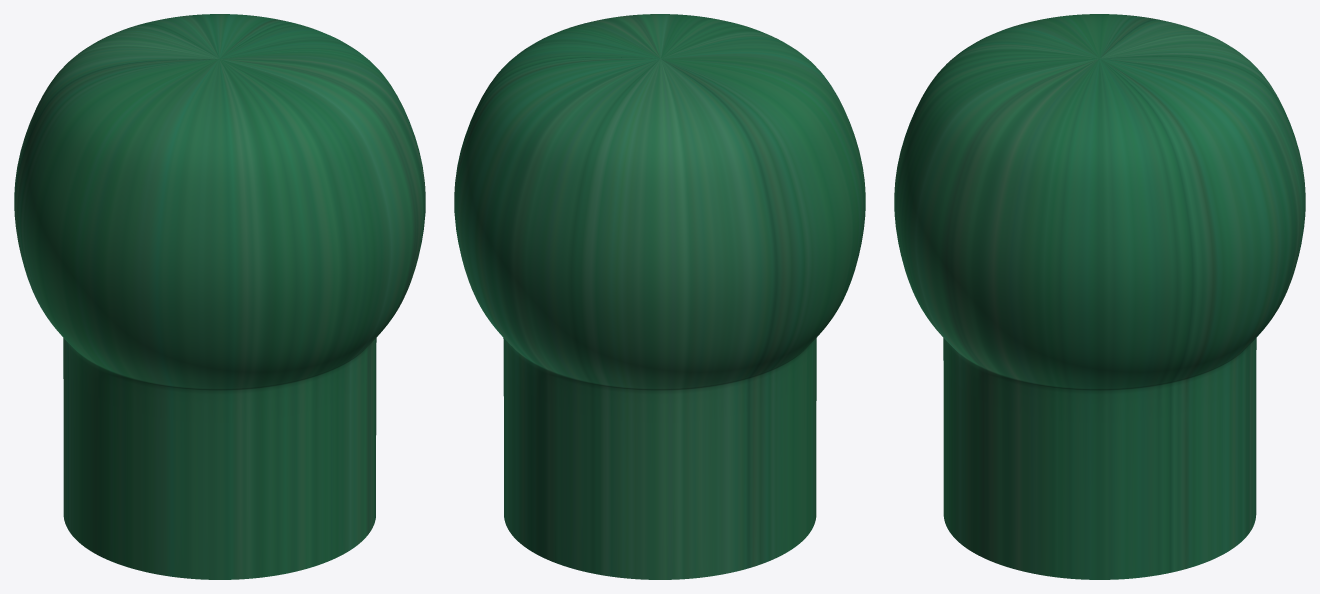
The model's file is PlateCollider.obj.
3 views of the same model, side by side, from view 1: azimuth 30°, elevation 25°; view 2: azimuth 150°, elevation 25°; view 3: azimuth 270°, elevation 25° (orthographic).
Parts seen in each view (by area): view 1: Plate_Mesh; view 2: Plate_Mesh; view 3: Plate_Mesh.
Part boxes in pixels (left/top/right/bottom): Plate_Mesh: left=14, top=14, right=425, bottom=579; Plate_Mesh: left=454, top=14, right=865, bottom=579; Plate_Mesh: left=894, top=14, right=1305, bottom=579.
Size of the model in its own units: 0.7959 by 0.972 by 0.796.
